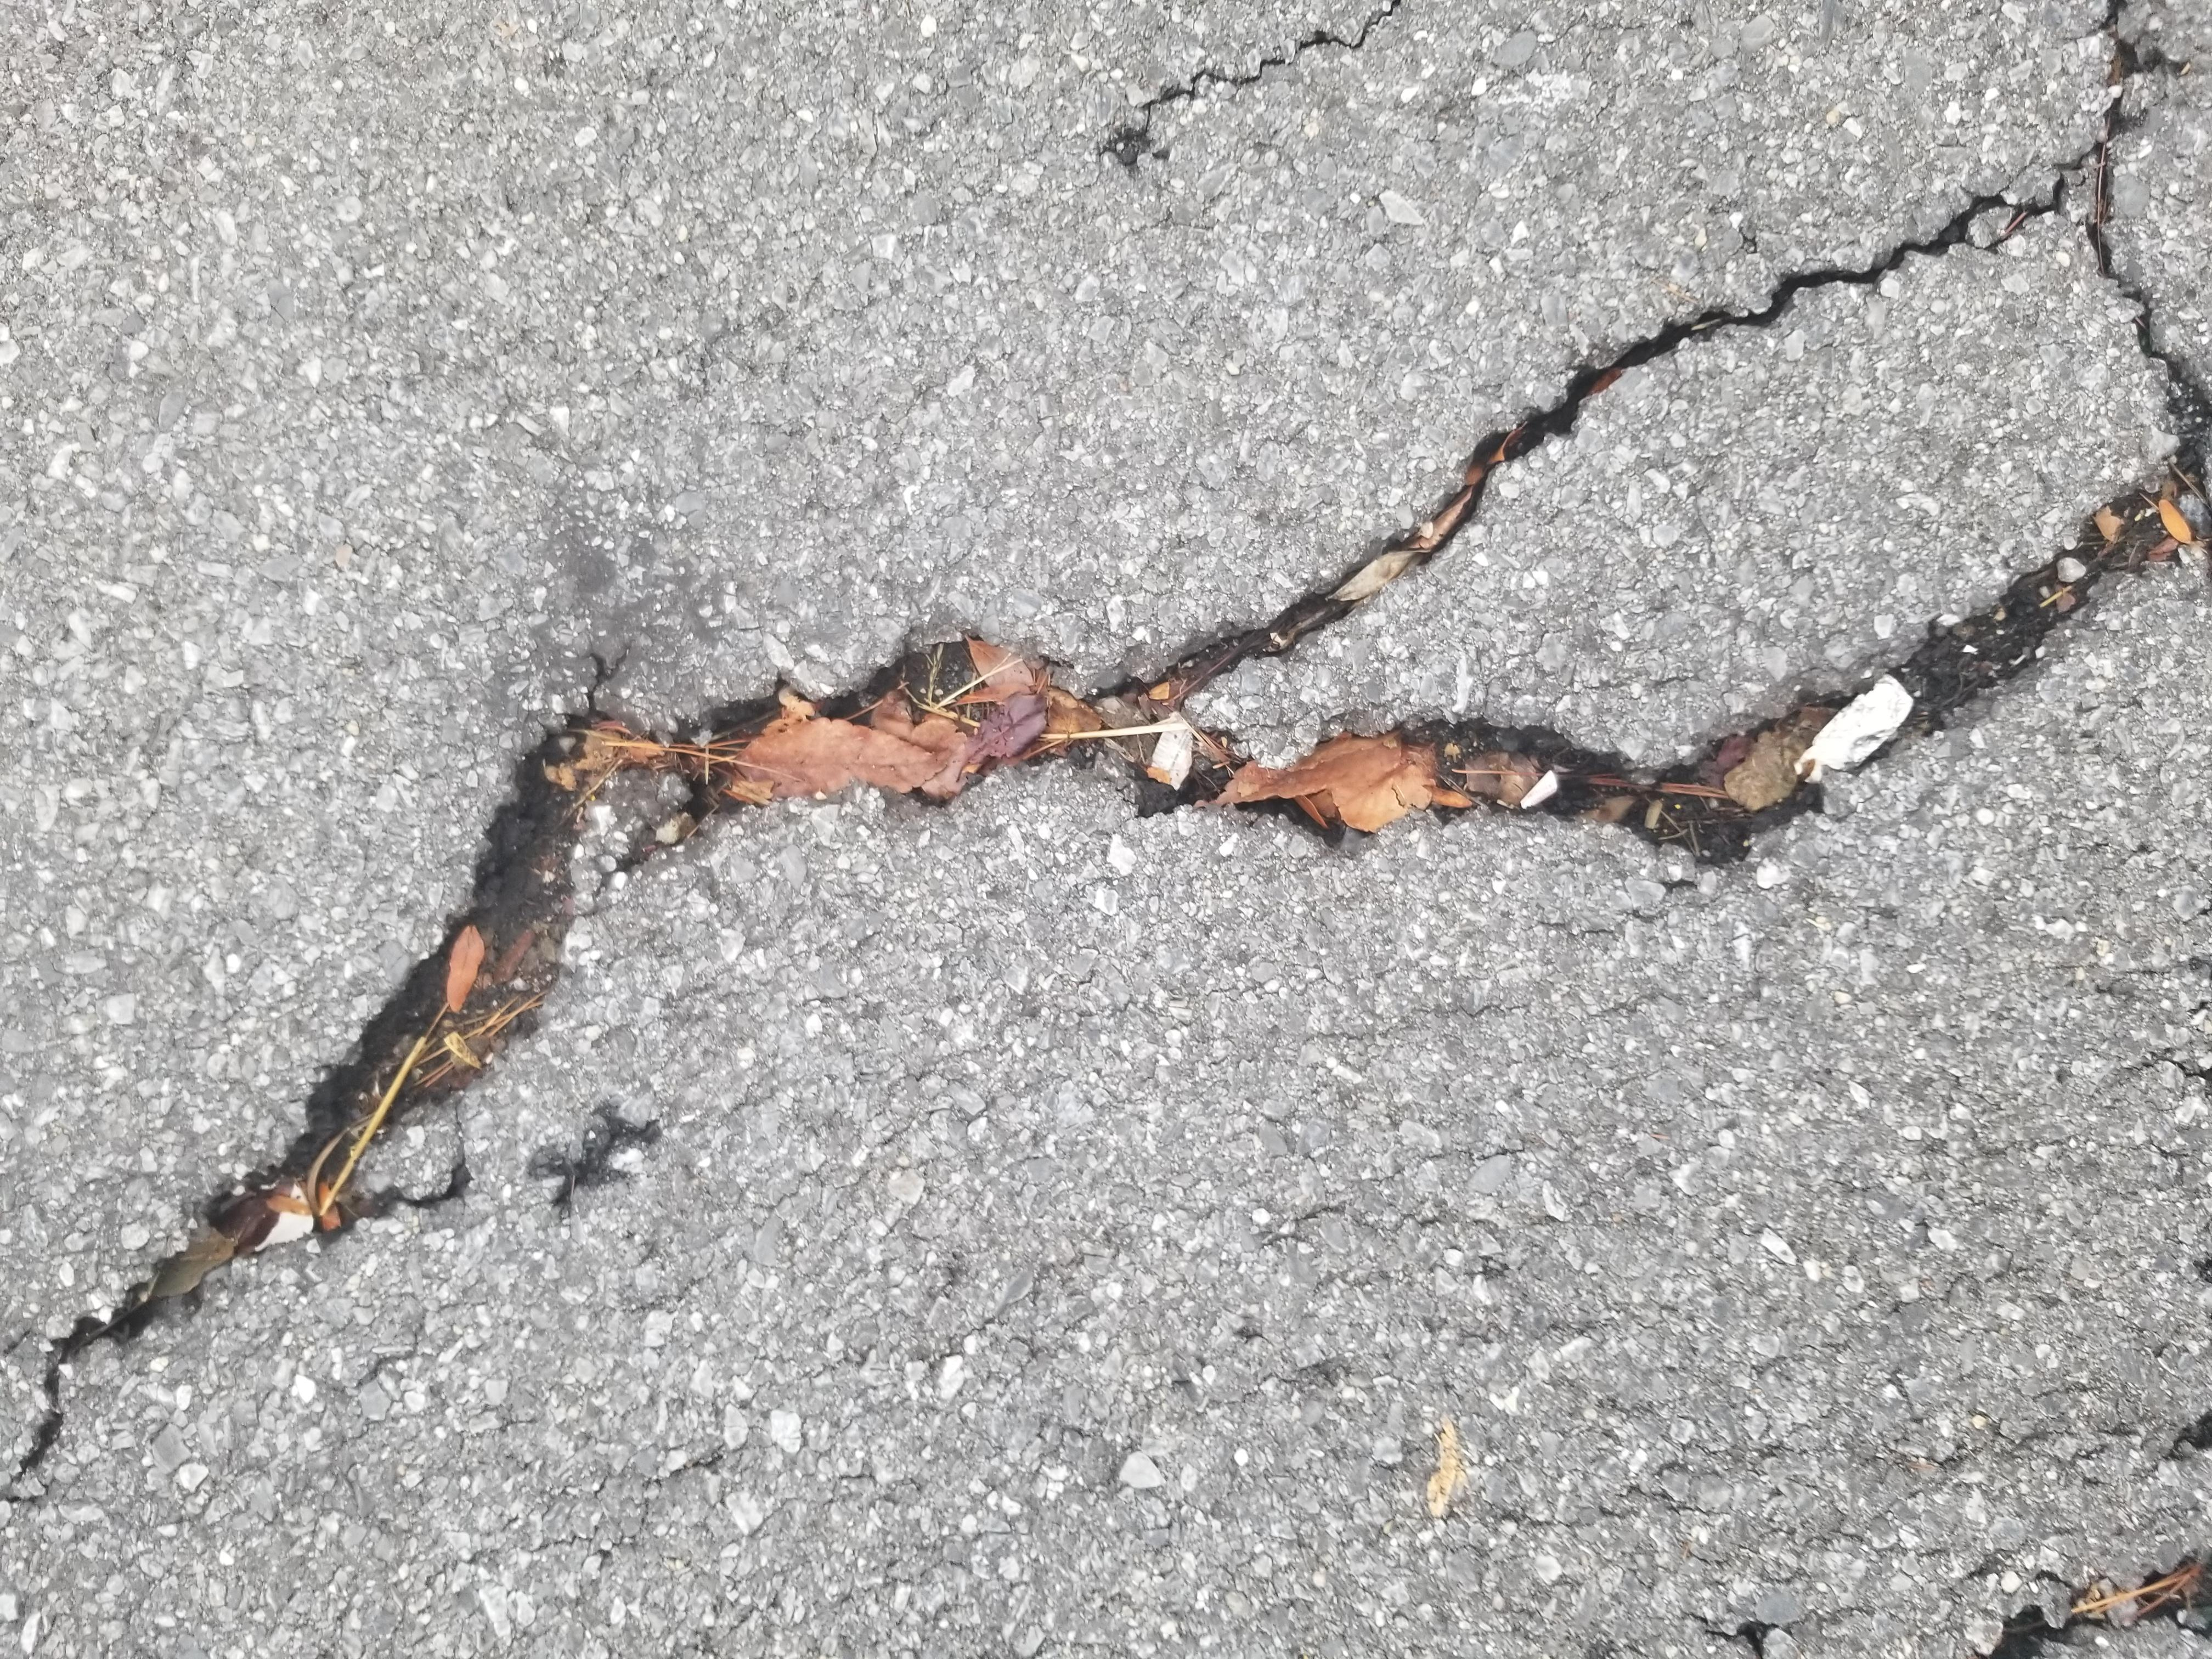alligator-crack: (249, 16, 2128, 1638)
